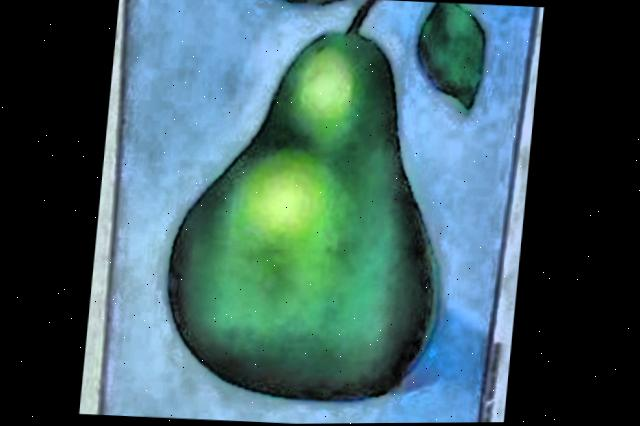La Pera: (102, 0, 536, 424)
